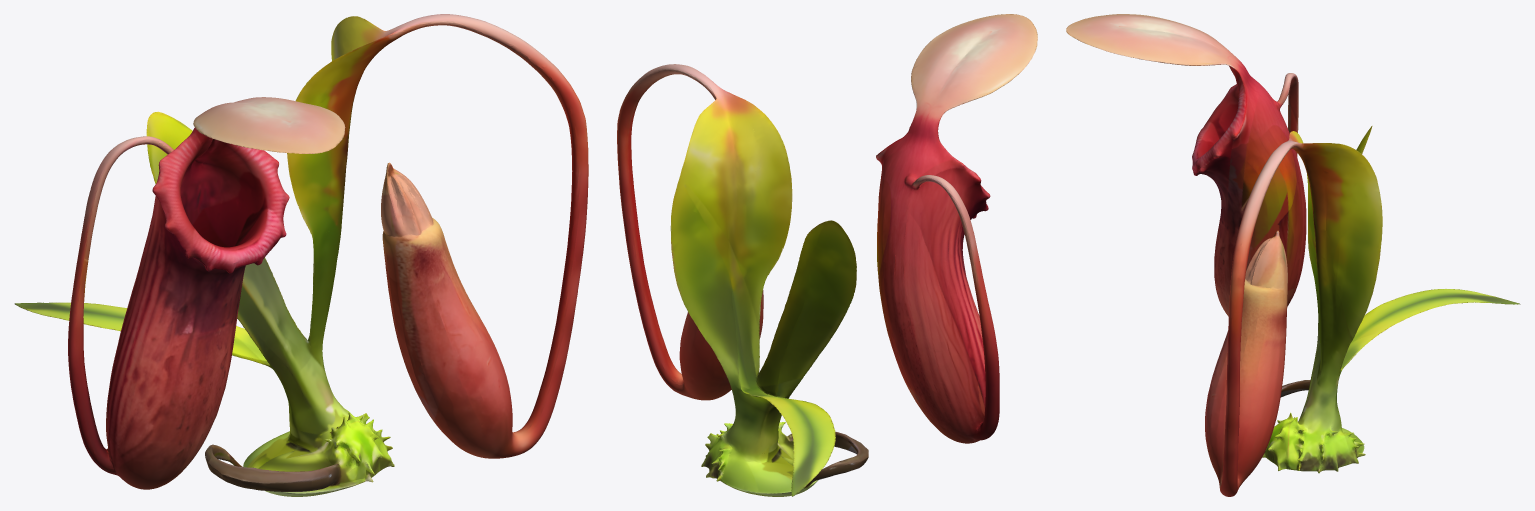
The model's file is Semar.fbx.
3 renders of one model, left to right at view 1: azimuth 30°, elevation 25°; view 2: azimuth 150°, elevation 25°; view 3: azimuth 270°, elevation 25°, orthographic. The views are drawn at different scales.
Parts seen in each view (by area): view 1: model; view 2: model; view 3: model.
Part boxes in pixels (bbox=[...]): model: bbox=[14, 14, 588, 496]; model: bbox=[617, 14, 1037, 496]; model: bbox=[1066, 14, 1520, 496].
Bounding box in the file's own units: 183 × 174 × 190.
Materials: 1 (1 with a texture image).
